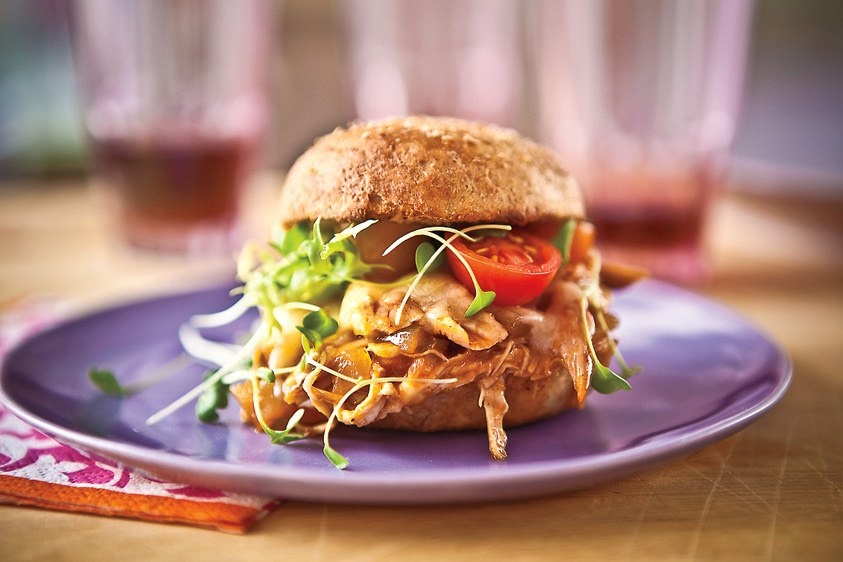background: (115, 99, 843, 413)
